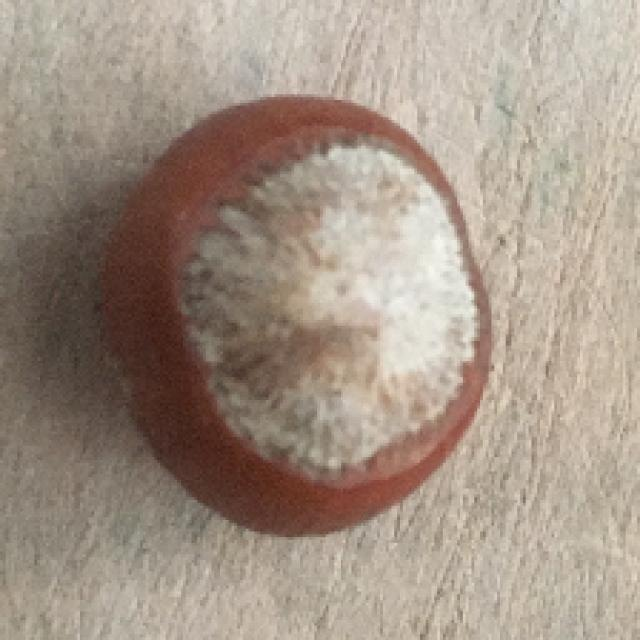qualityHazelnut: (94, 91, 497, 540)
